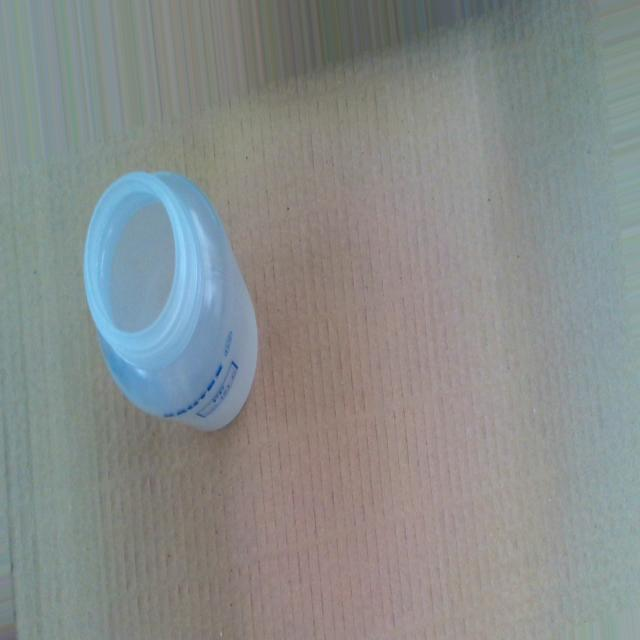bottle: (82, 166, 264, 438)
